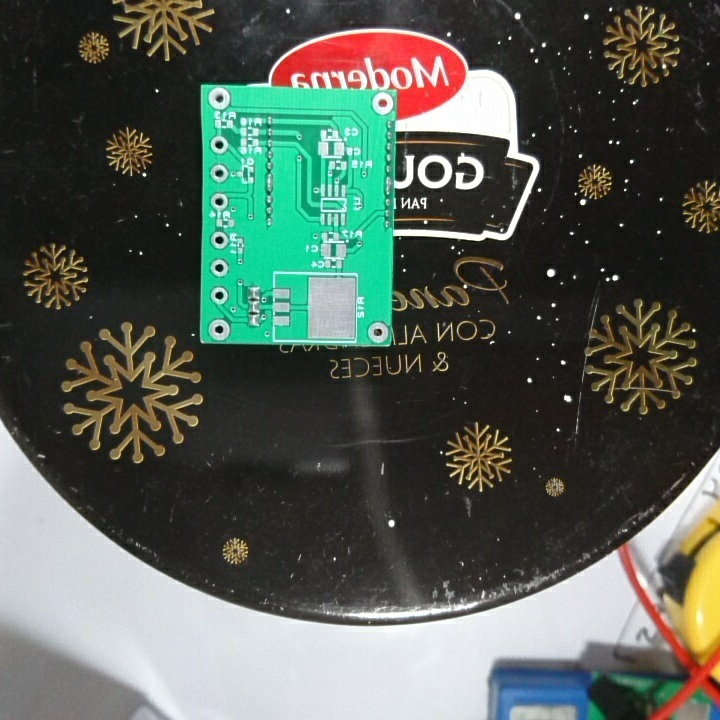F: (204, 318, 239, 343), (368, 90, 397, 118), (365, 319, 393, 343), (207, 86, 231, 112), (208, 229, 232, 253), (207, 161, 230, 186), (207, 255, 230, 280), (209, 283, 231, 307), (207, 190, 230, 212), (209, 132, 230, 155)
P: (262, 171, 276, 195), (382, 175, 393, 197)
